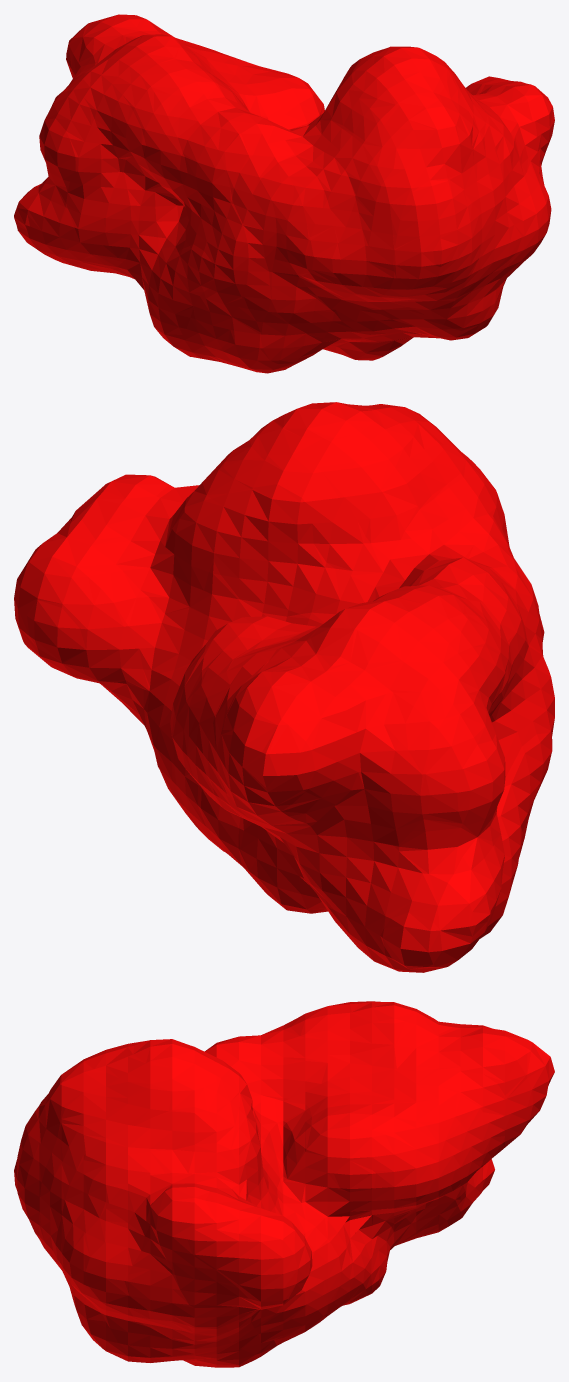
The model's file is ulaR_coarse.dae.
3 renders of one model, top to bottom at view 1: azimuth 30°, elevation 25°; view 2: azimuth 150°, elevation 25°; view 3: azimuth 270°, elevation 25°, orthographic. The views are drawn at different scales.
Visible parts, largest first — view 1: ulaR; view 2: ulaR; view 3: ulaR.
Part boxes in pixels (<box>): ulaR: <box>14,14,554,373</box>; ulaR: <box>14,402,554,972</box>; ulaR: <box>14,1001,554,1367</box>.
Bounding box in the file's own units: 59.3 × 42.75 × 63.39.
